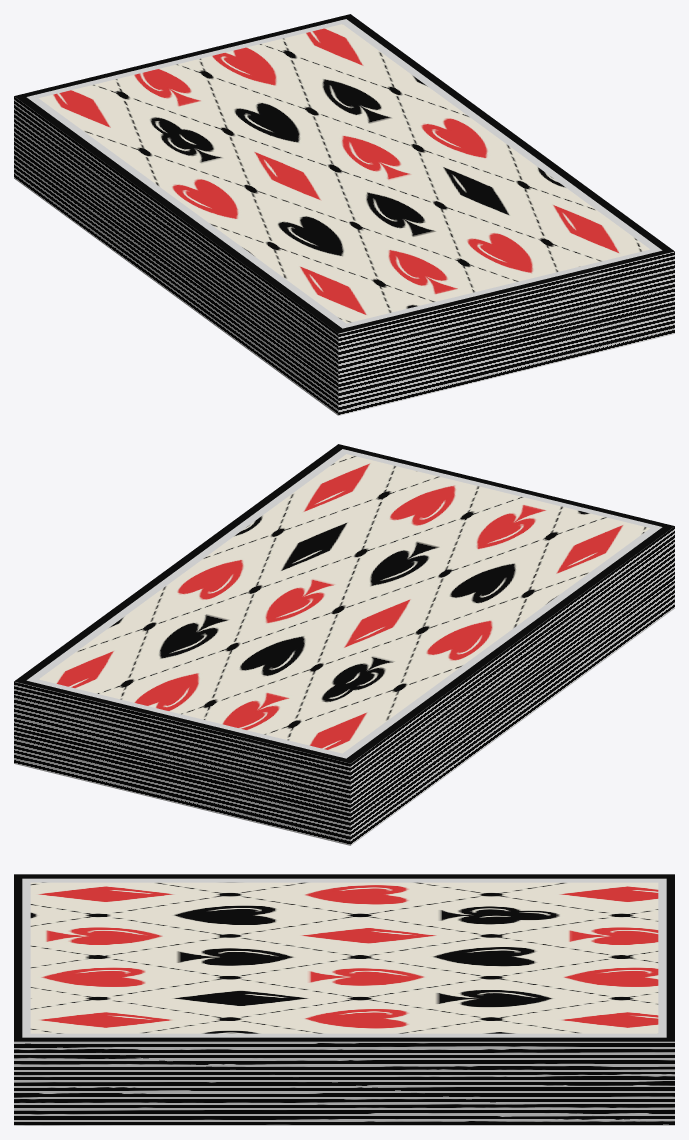
File: Stack2.glb
3 renders of one model, top to bottom at view 1: azimuth 30°, elevation 25°; view 2: azimuth 150°, elevation 25°; view 3: azimuth 270°, elevation 25°, orthographic.
Visible parts, largest first — view 1: Cube; view 2: Cube; view 3: Cube.
Boxes of the visible parts, <box> form: Cube: <box>14,14,674,415</box>; Cube: <box>14,444,674,845</box>; Cube: <box>14,874,674,1125</box>.
Size of the model in its own units: 2.13 by 0.4973 by 3.55.
4 materials, 2 textured.
